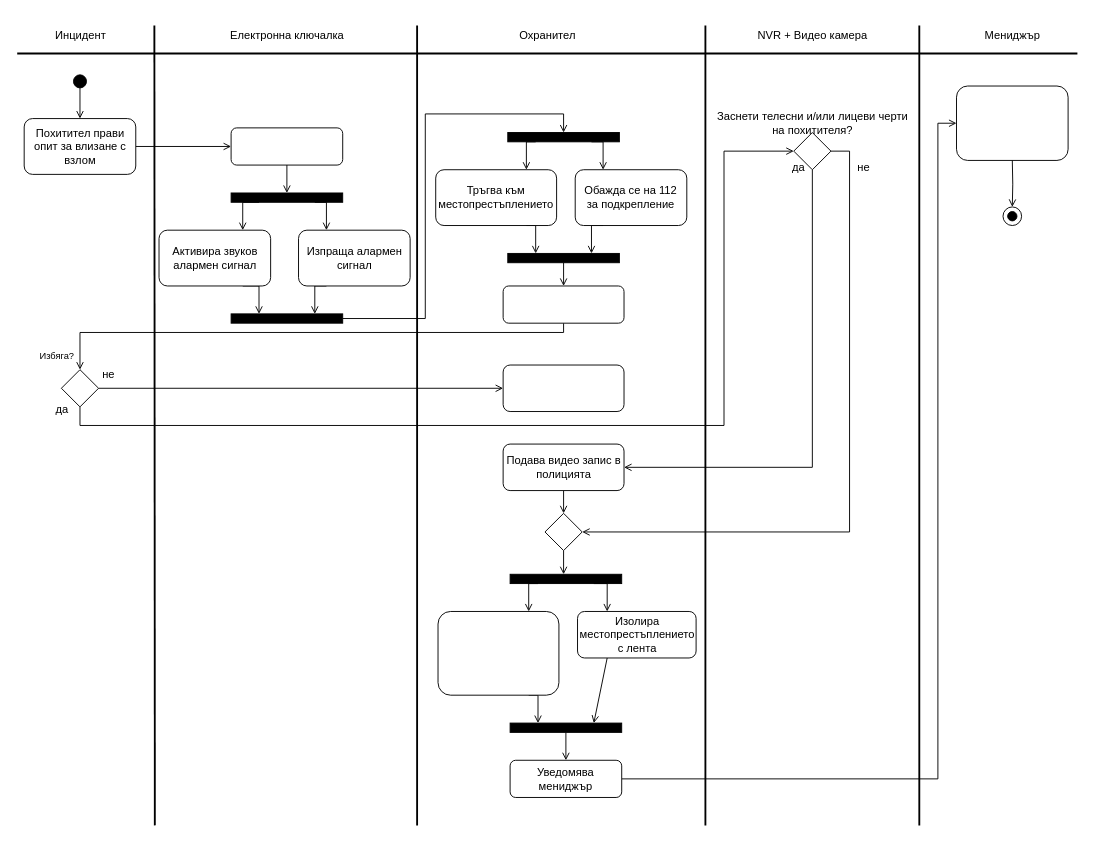
This 1095x843 diagram has some shape labels left out. Here are the shapes that lost their labels. From the top down, the centre of each, then its label:
At [1012,122]: "Провежда пост-инцидентна кореспонденция с клиента".
At [286,146]: "Засича оказана физическа щета".
At [563,304]: "Пристига на местопрестъплението".
At [563,388]: "Неутрализира похитителя".
At [498,653]: "Назначава криминално изследване за отпечатъци и ДНК следи".
